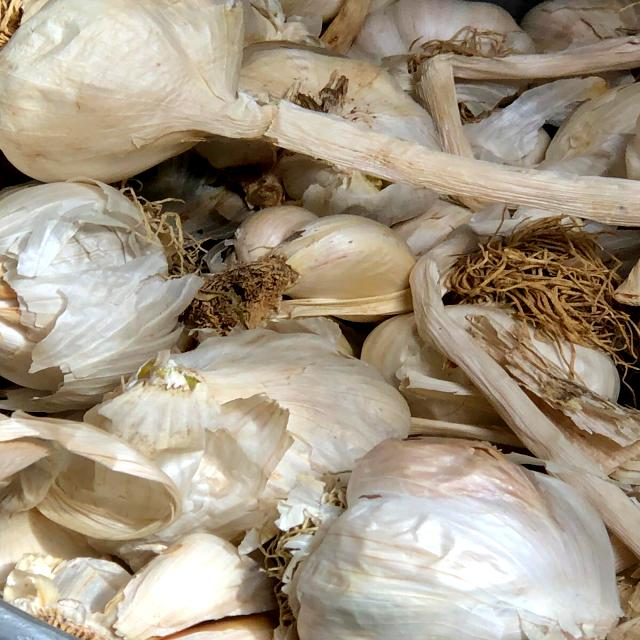garlic: (217, 194, 428, 333)
